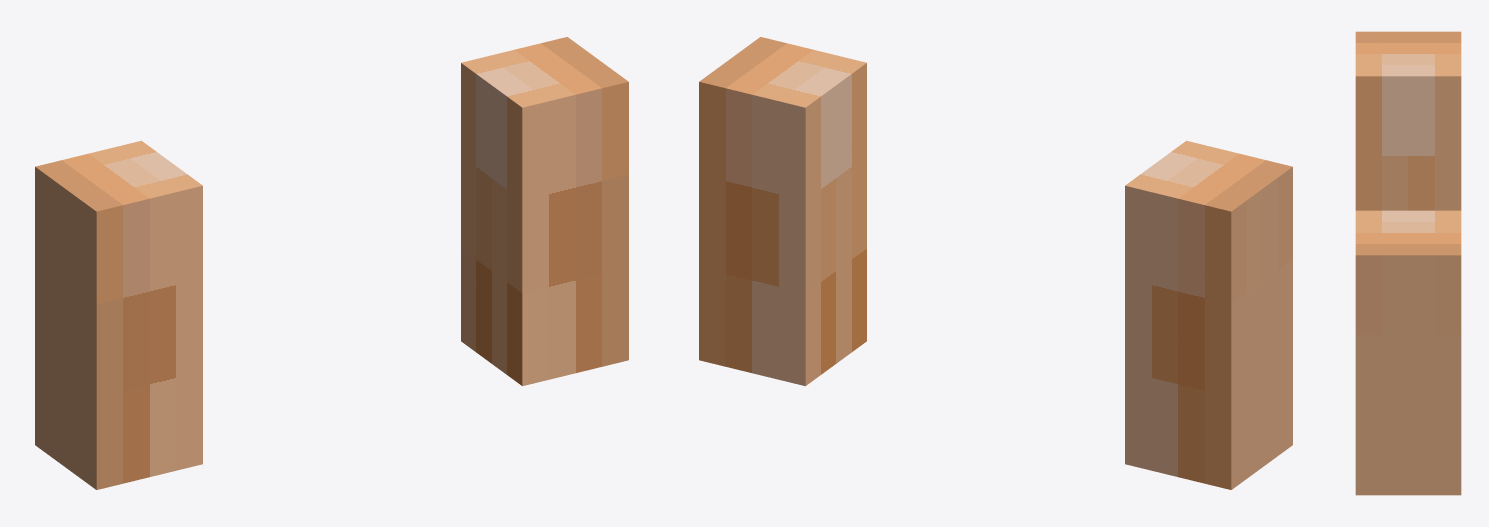
Rendered from Hand.gltf.
3 renders of one model, left to right at view 1: azimuth 30°, elevation 25°; view 2: azimuth 150°, elevation 25°; view 3: azimuth 270°, elevation 25°, orthographic. The views are drawn at different scales.
Parts seen in each view (by area): view 1: Left Hand, Right Hand; view 2: Left Hand, Right Hand; view 3: Right Hand, Left Hand.
Boxes of the visible parts, x1,y1,x2,y2 form: Left Hand: (35,140,202,489); Right Hand: (461,37,628,386); Left Hand: (1125,140,1292,489); Right Hand: (699,37,866,386); Right Hand: (1355,210,1461,495); Left Hand: (1355,31,1461,210).
Size of the model in its own units: 0.6562 by 0.3438 by 0.1562.
1 material, 1 textured.
